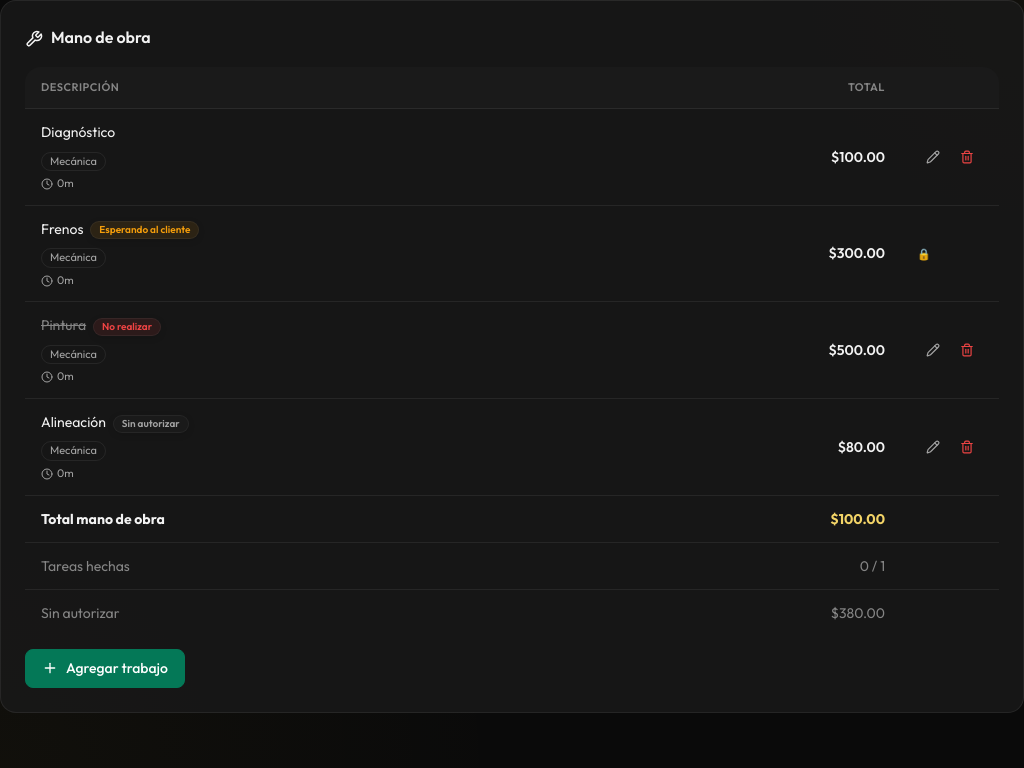
Test case: LaborTable con estados › los botones de solo icono se anuncian por su nombre
Expected: the button "Agregar trabajo" is shown, [25,649,185,688]
Expected: the 1st button named "Eliminar" is shown, [951,141,983,173]
// Guardar y Cancelar solo existen mientras se edita una línea.
Click the 1st button named "Editar": (933, 157) [917,141,949,173]
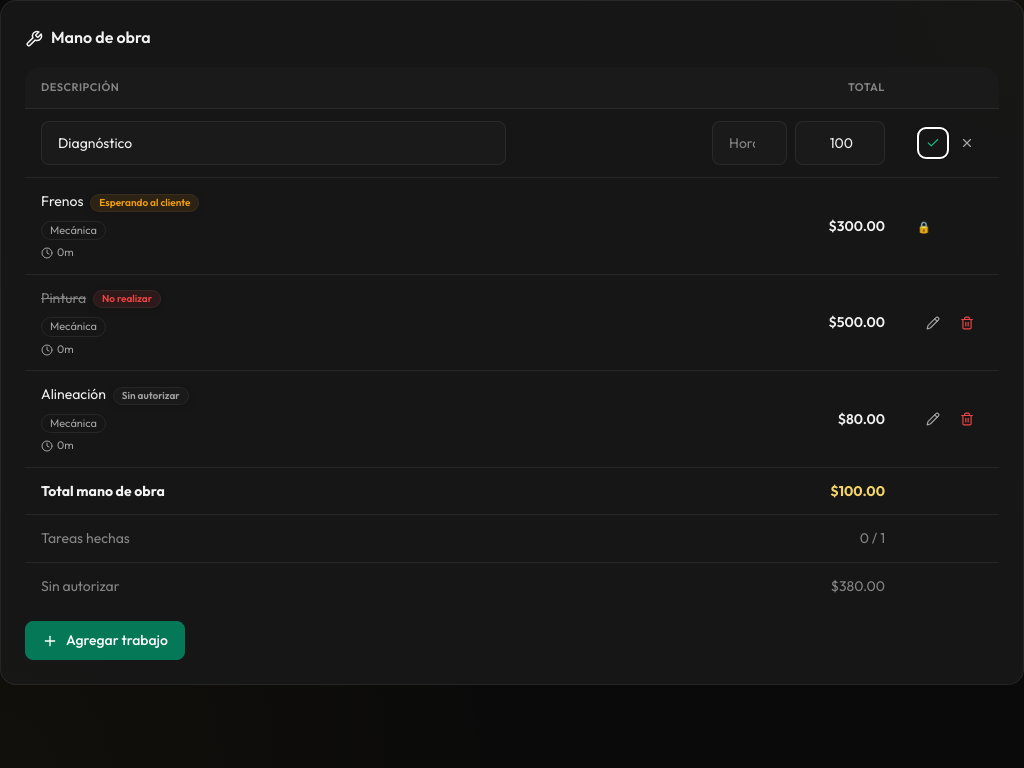
Expected: the button named "Guardar" is shown, [917,127,949,159]
Expected: the button named "Cancelar" is shown, [951,127,983,159]
